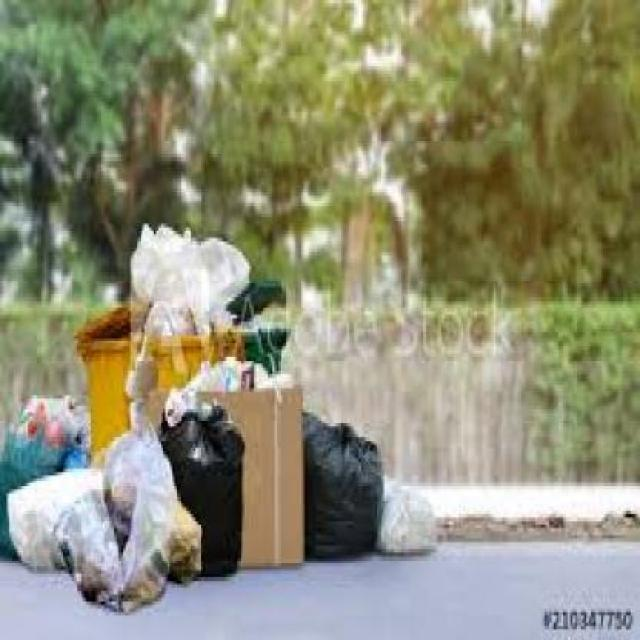garbage: (132, 225, 298, 571), (3, 402, 136, 601), (300, 417, 438, 553), (82, 325, 129, 395)
